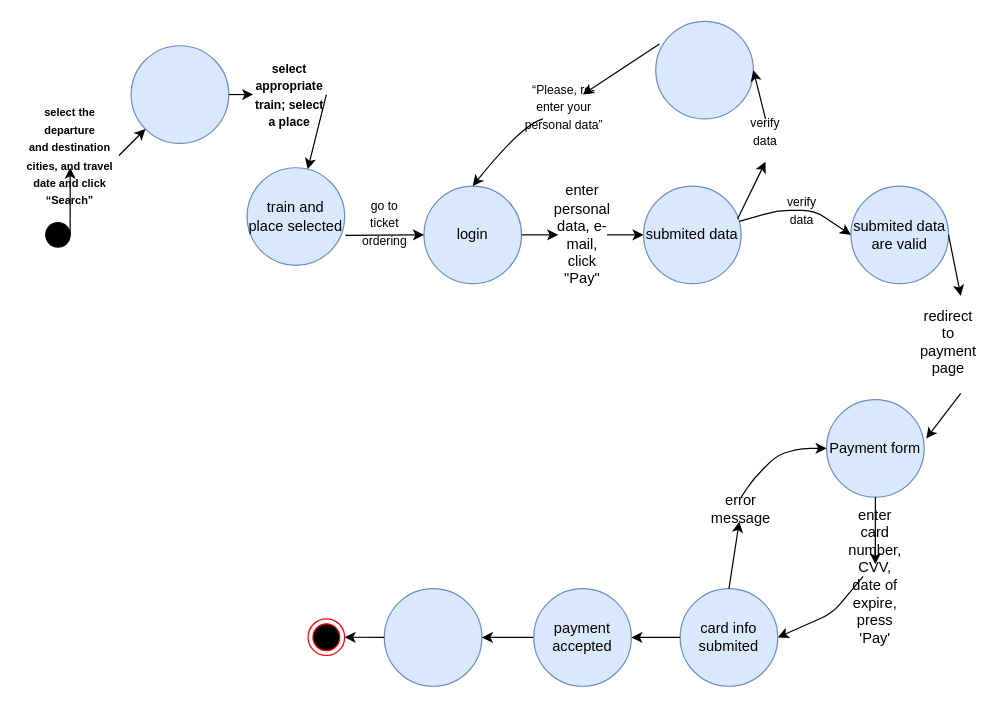
This 997x708 diagram has some shape labels left out. Here are the shapes that lost their labels. From the top down, the centre of each, then its label:
the point at 704,69: submited data are invalid
the point at 179,94: Search results
the point at 432,636: e-mail notification on success
